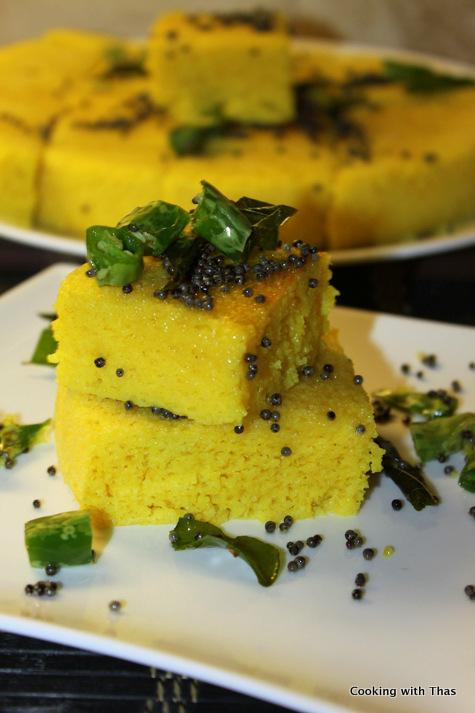yellow dhokla: (41, 171, 418, 533)
